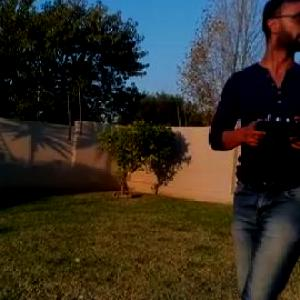follow: (203, 0, 299, 299)
